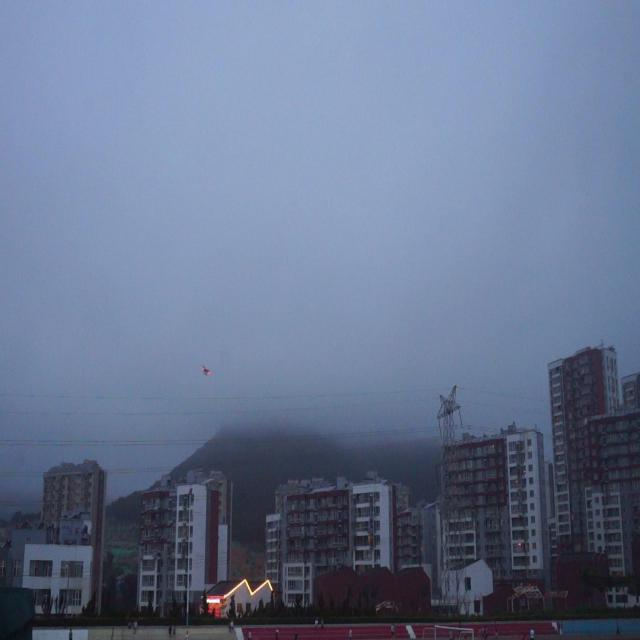drone: (200, 363, 212, 380)
